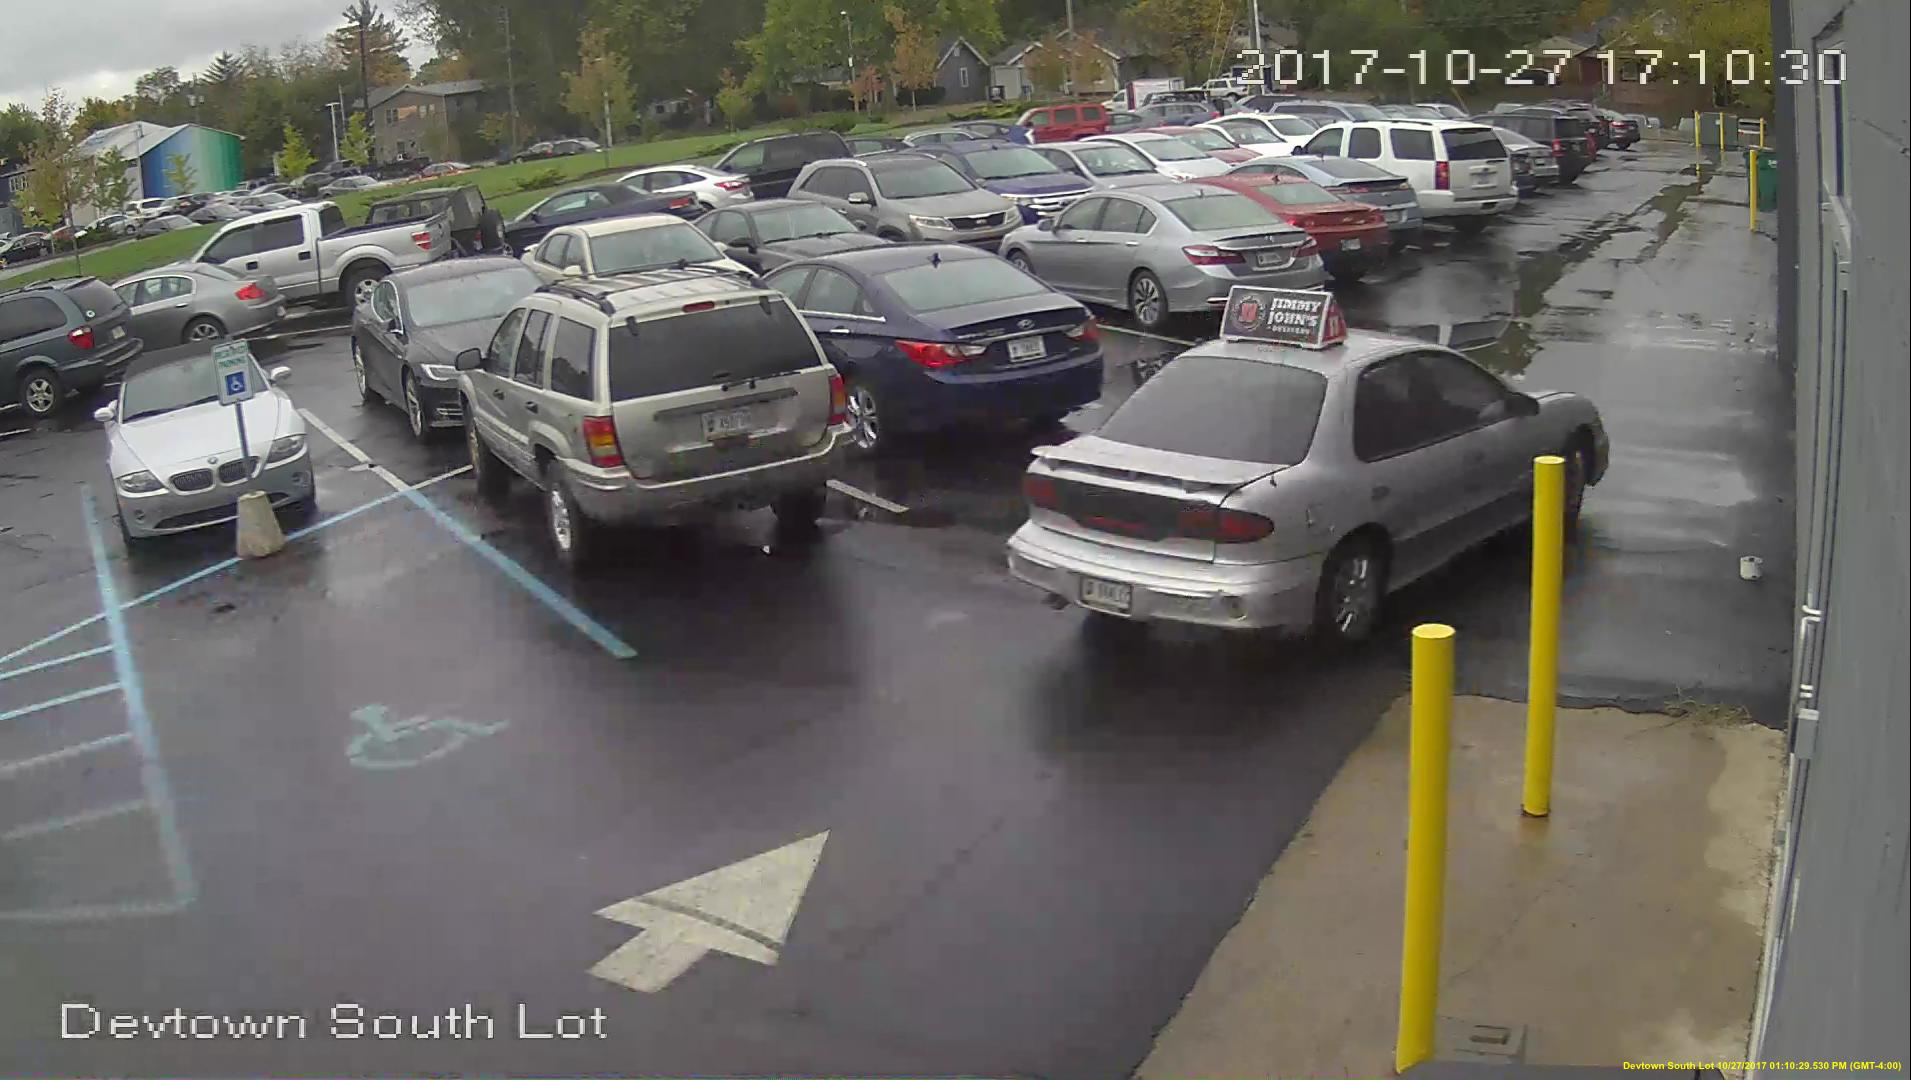jimmy_johns: (1221, 283, 1347, 349)
